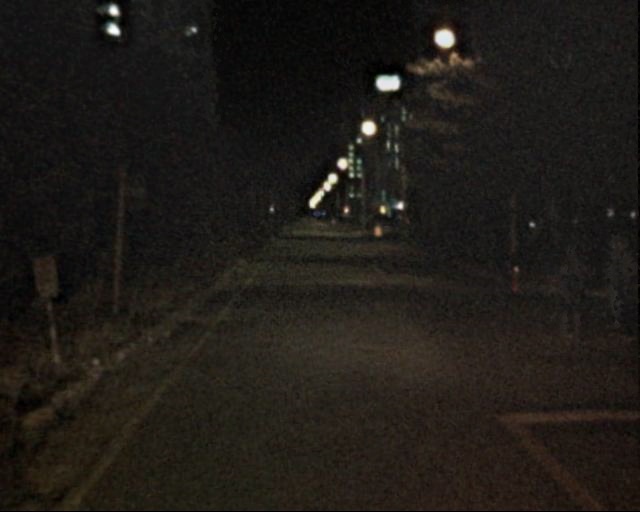person: (599, 224, 635, 349), (550, 243, 593, 347)
